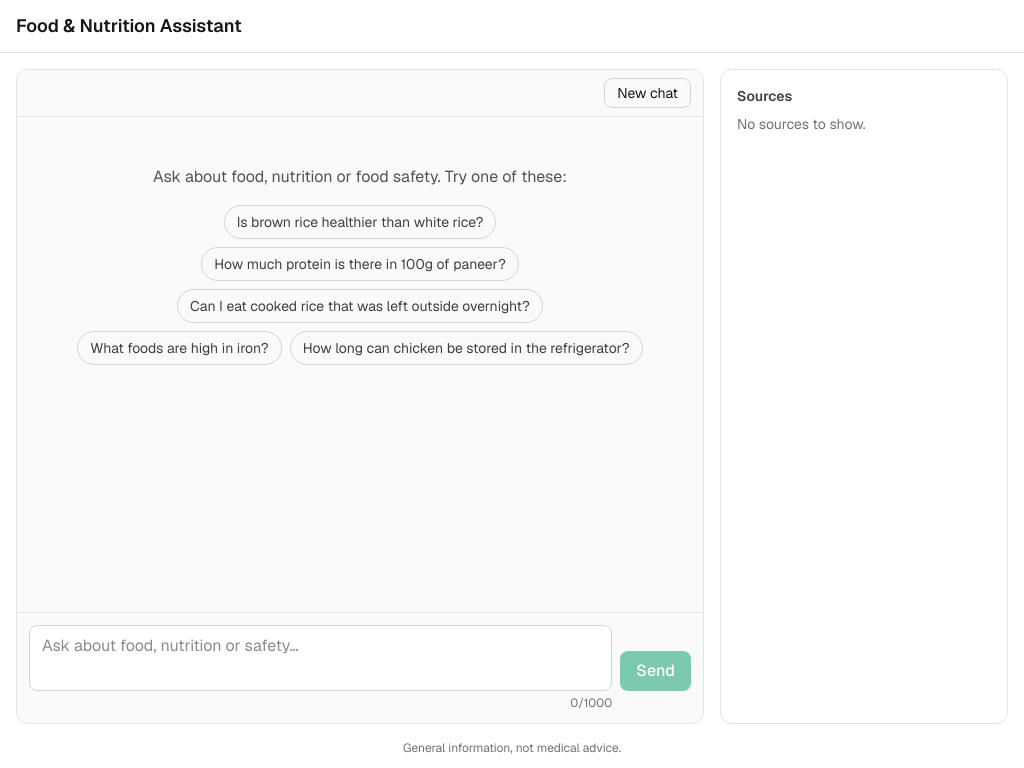
Test: sources panel stays empty after an answer with claims arrives
The width and height of the screenshot is (1024, 768).
Expected: the text "No sources to show." is shown, [737,115,866,133]
Expected: the element "Sources" reads "Sources No sources to show.", [720,69,1008,724]
Type "Is brown rice healthier than white rice?" into the text box named "Your question".
click(321, 658); type("Is brown rice healthier than white rice?")  # box [29,625,612,691]
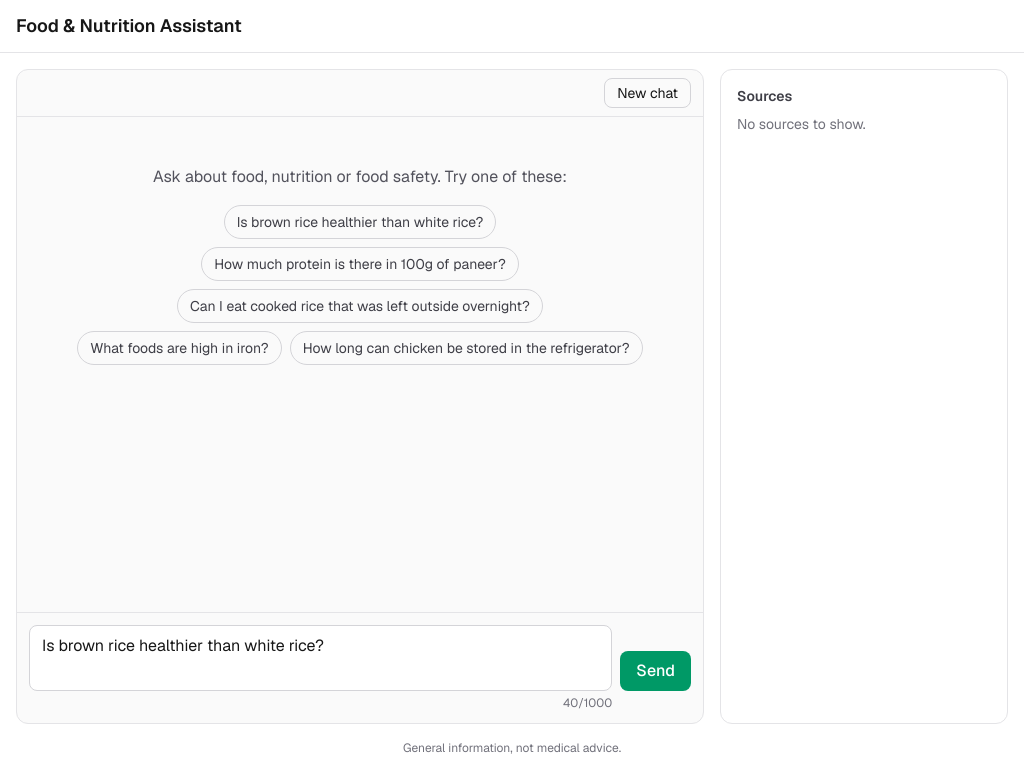
Press Enter in the text box named "Your question", box [29,625,612,691]
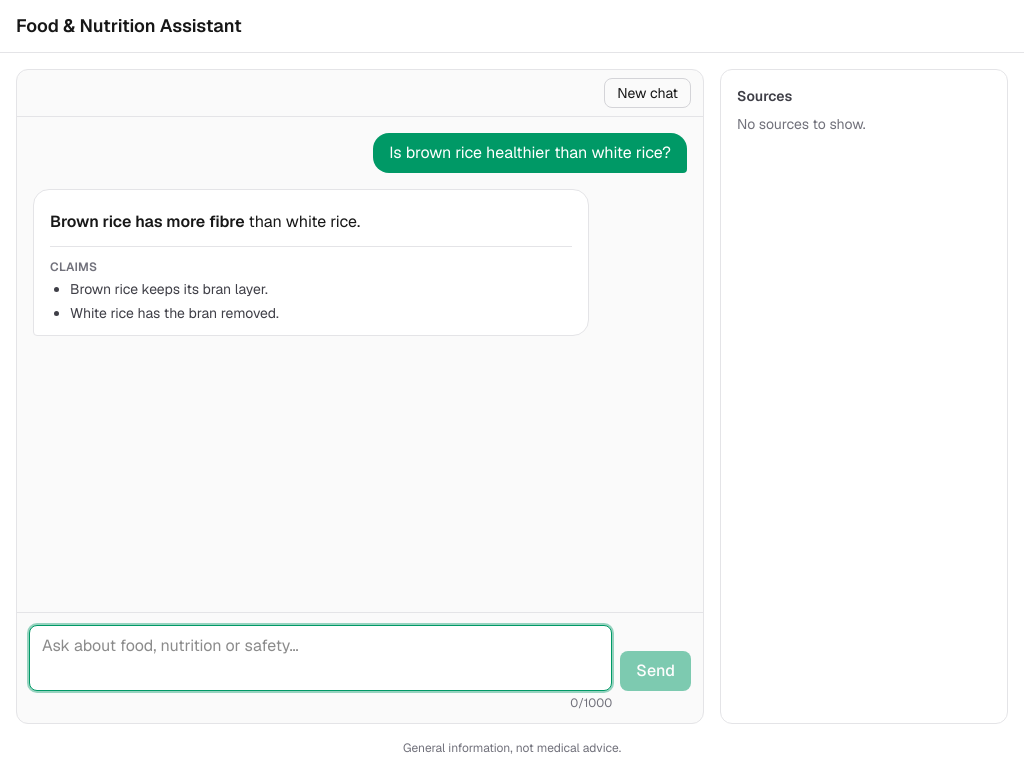
Result: the text "Brown rice has more fibre" is shown at [50,211,245,232]
Result: the list item "Brown rice keeps its bran layer." is shown at [70,280,268,298]
Result: no the list item "How much protein is there in 100g of paneer?" are shown
